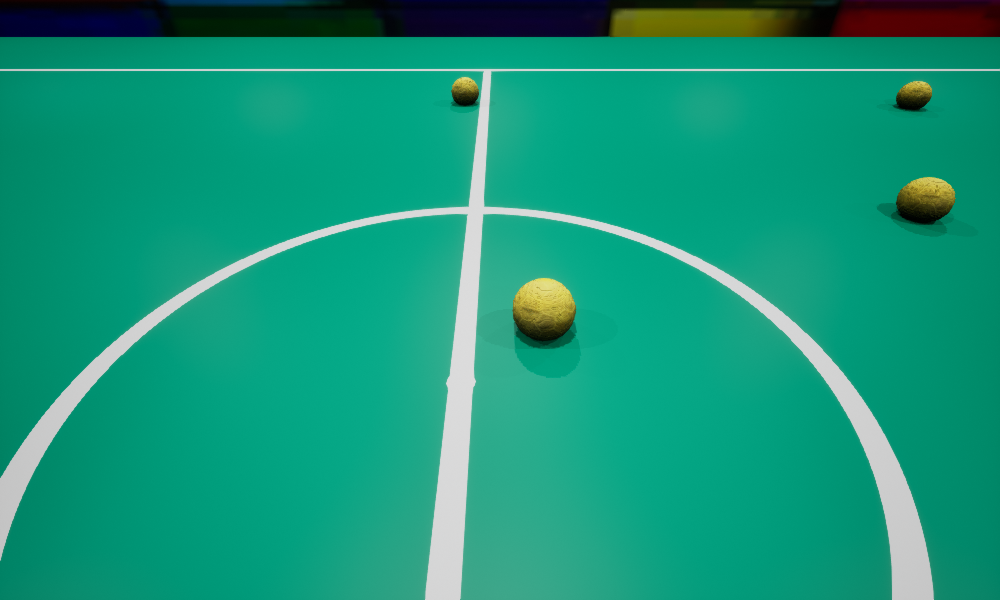b: (512, 278, 575, 340), (896, 177, 955, 222), (896, 81, 931, 109), (451, 77, 478, 104)
